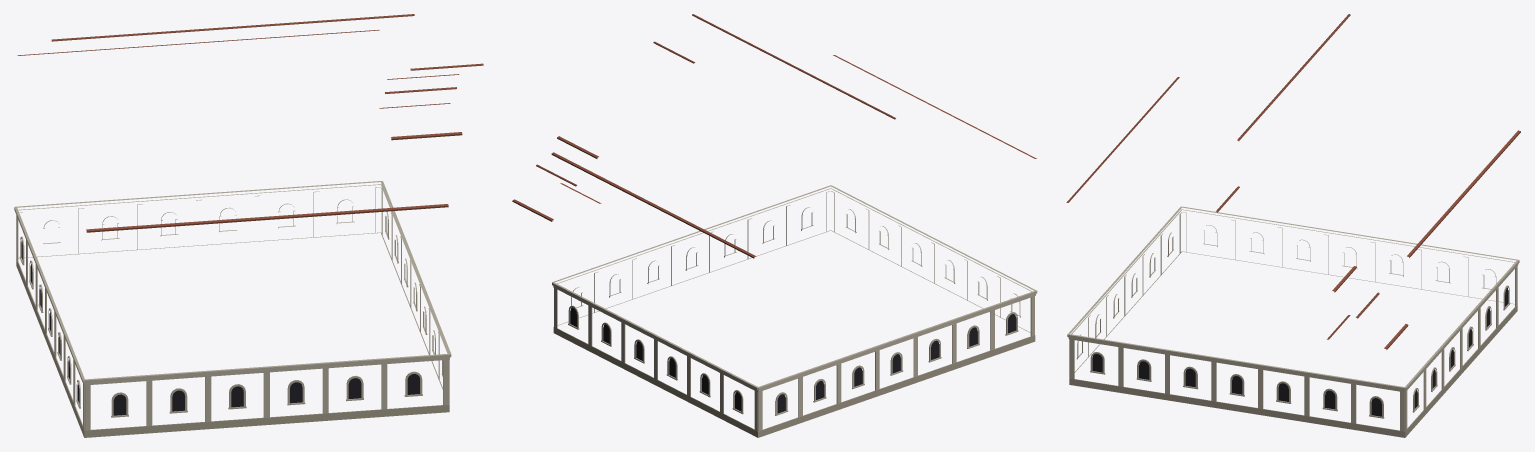
3 renders of one model, left to right at view 1: azimuth 30°, elevation 25°; view 2: azimuth 150°, elevation 25°; view 3: azimuth 270°, elevation 25°, orthographic. The views are drawn at different scales.
Parts seen in each view (by area): view 1: detail; view 2: detail; view 3: detail.
Boxes of the visible parts, x1,y1,x2,y2 form: detail: [14, 14, 483, 437]; detail: [512, 14, 1037, 437]; detail: [1066, 14, 1520, 437].
Bounding box in the file's own units: 55.51 × 34.07 × 51.88.
